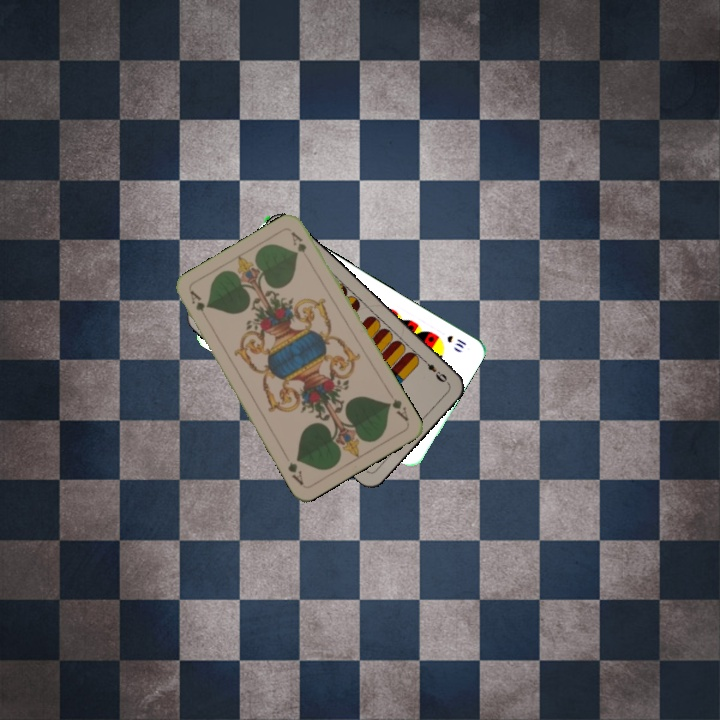E9: (418, 354, 451, 386)
GA: (186, 286, 210, 324), (383, 394, 411, 424)
S10: (443, 331, 469, 351)
